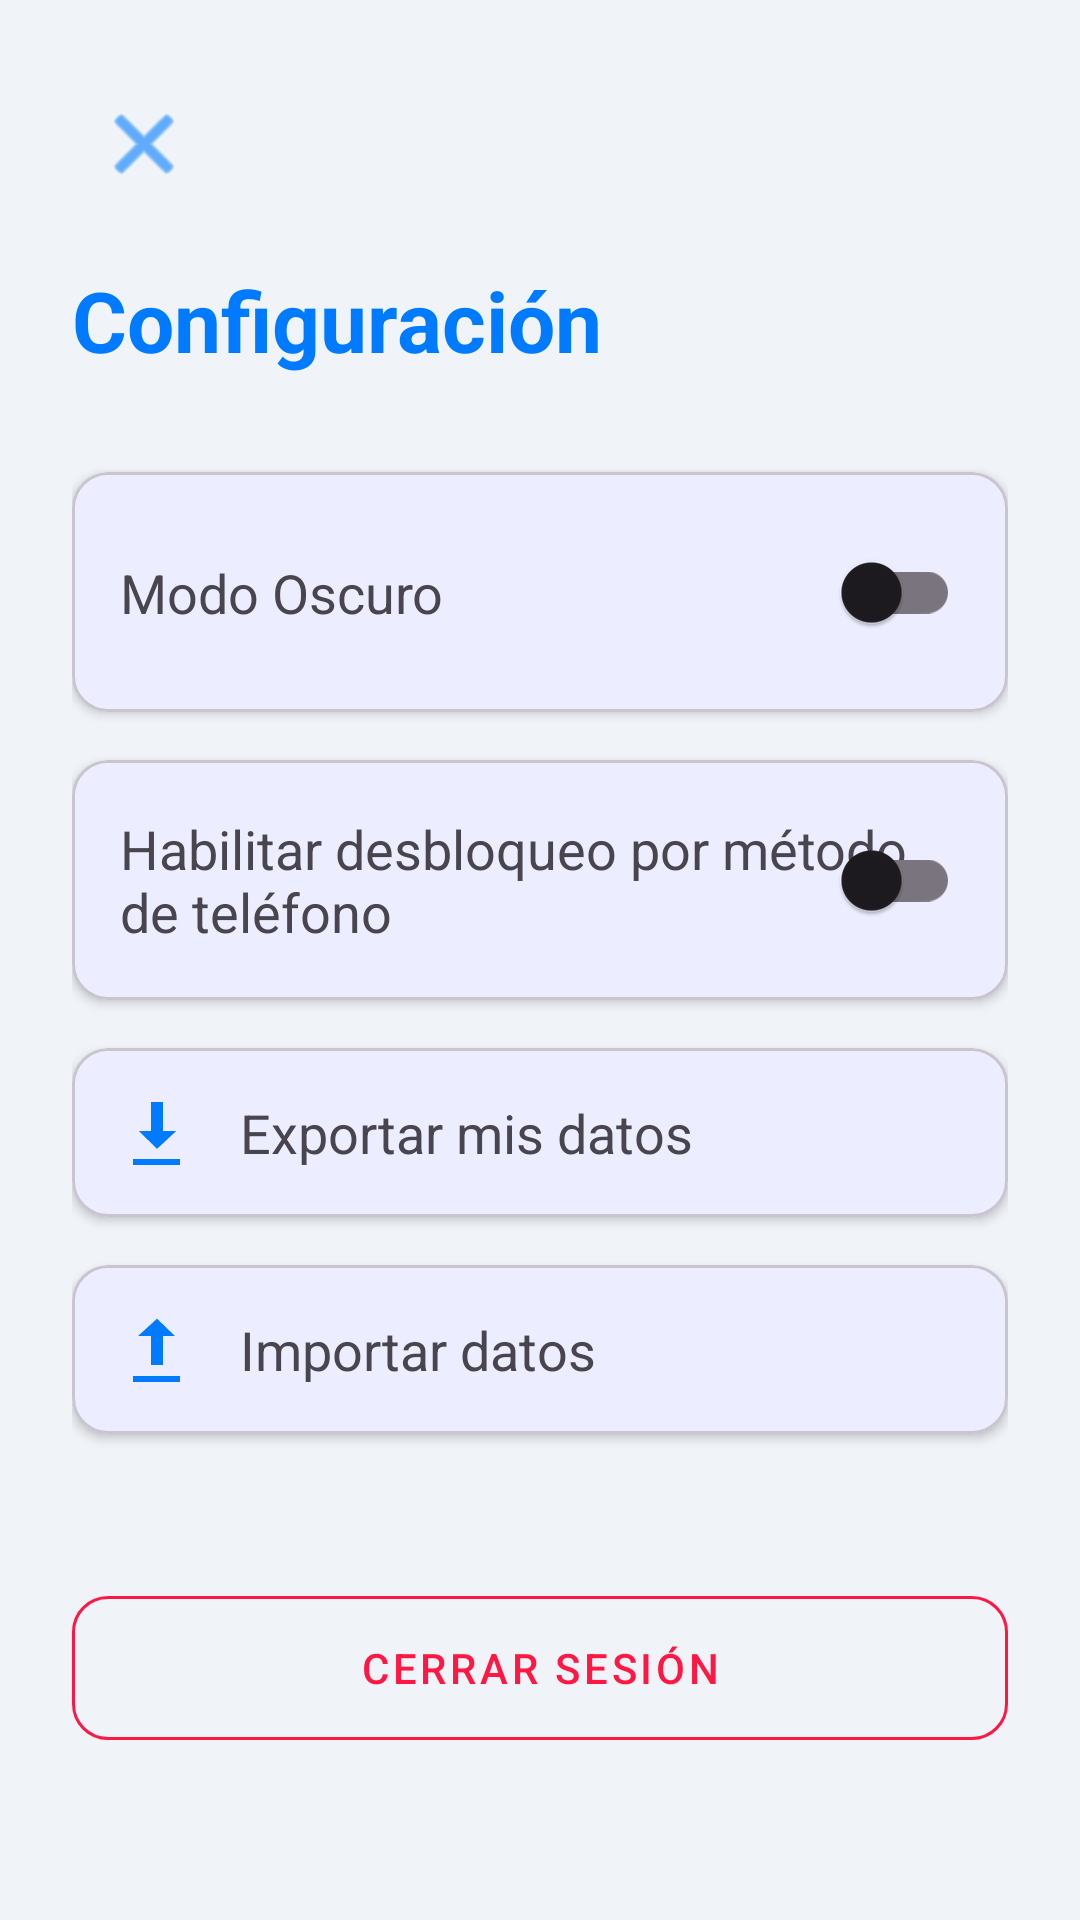

Where icons sit on this 1080×1920 app screen, as (x1, y1, x2, y2):
close clear cancel: (114, 114, 174, 174)
download: (133, 1102, 180, 1165)
upload: (133, 1319, 180, 1382)
